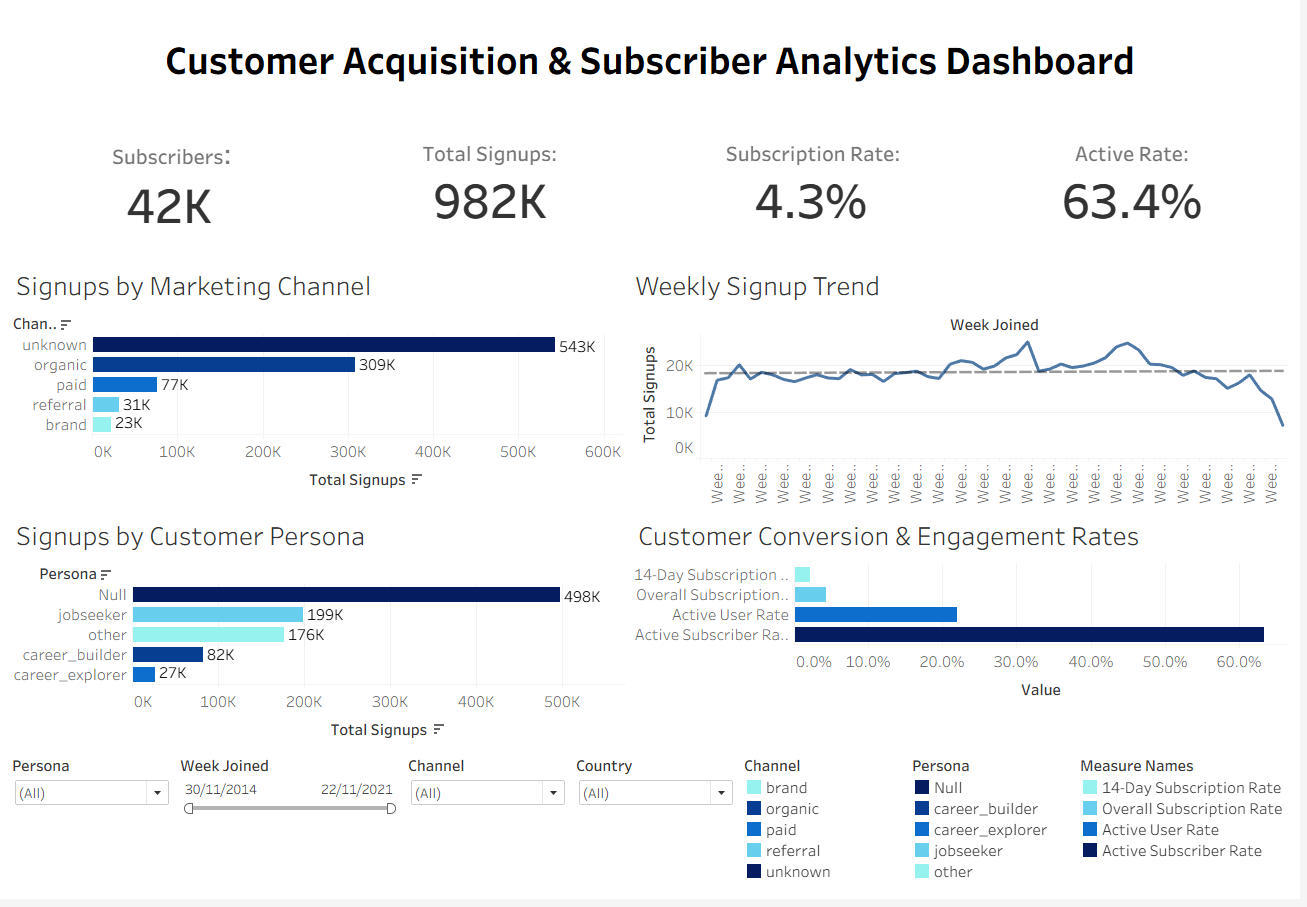

The page's visual inventory and layout, read from the dashboard file:
{"tool":"tableau","page":{"name":"Customer Acquisition & Conversion Dashboard","canvas":[1300,900],"ordinal":0},"visuals":[{"type":"title","box":[8,8,1284,104]},{"type":"worksheet","title":"KPI - Total Subscribers","mark":"Automatic","box":[8,112,321,149]},{"type":"worksheet","title":"KPI - Total Signups","mark":"Automatic","box":[329,112,321,149]},{"type":"worksheet","title":"KPI - Overall Subscription Rate","mark":"Automatic","box":[650,112,321,149]},{"type":"worksheet","title":"KPI - Active Subscriber Rate","mark":"Automatic","box":[971,112,321,149]},{"type":"worksheet","title":"Signups by Marketing Channel","mark":"Automatic","rows":["channel"],"cols":["total_signups"],"box":[8,261,619,250]},{"type":"worksheet","title":"Weekly Signup Trend","mark":"Automatic","rows":["total_signups"],"cols":["week_joined"],"box":[627,261,665,250]},{"type":"worksheet","title":"Signups by Customer Persona","mark":"Automatic","rows":["persona"],"cols":["total_signups"],"box":[8,511,622,241]},{"type":"worksheet","title":"Customer Conversion & Engagement Rates","mark":"Automatic","box":[630,511,662,241]},{"type":"filter","title":"Signups by Marketing Channel","param":"[federated.0hsg56x1mo020c1gxsg420qv870l].[none:persona:nk]","box":[8,752,168,140]},{"type":"filter","title":"Signups by Marketing Channel","param":"[federated.0hsg56x1mo020c1gxsg420qv870l].[none:week_joined:qk]","box":[176,752,228,140]},{"type":"filter","title":"Signups by Marketing Channel","param":"[federated.0hsg56x1mo020c1gxsg420qv870l].[none:channel:nk]","box":[404,752,168,140]},{"type":"filter","title":"Weekly Signup Trend","param":"[federated.0hsg56x1mo020c1gxsg420qv870l].[none:country:nk]","box":[572,752,168,140]},{"type":"legend","title":"Signups by Marketing Channel","param":"[federated.0hsg56x1mo020c1gxsg420qv870l].[none:channel:nk]","box":[740,752,168,140]},{"type":"legend","title":"Signups by Customer Persona","param":"[federated.0hsg56x1mo020c1gxsg420qv870l].[none:persona:nk]","box":[908,752,168,140]},{"type":"legend","title":"Customer Conversion & Engagement Rates","param":"[federated.0hsg56x1mo020c1gxsg420qv870l].[:Measure Names]","box":[1076,752,216,140]}]}

Visuals, with their boxes in screenshot pixels (x1, y1, x2, y2), scaled from the page's 1300x900 canvas onto the 1307x907 screenshot:
title: bbox=[8, 8, 1299, 113]
"KPI - Total Subscribers" worksheet: bbox=[8, 113, 331, 263]
"KPI - Total Signups" worksheet: bbox=[331, 113, 654, 263]
"KPI - Overall Subscription Rate" worksheet: bbox=[654, 113, 976, 263]
"KPI - Active Subscriber Rate" worksheet: bbox=[976, 113, 1299, 263]
"Signups by Marketing Channel" worksheet: bbox=[8, 263, 630, 515]
"Weekly Signup Trend" worksheet: bbox=[630, 263, 1299, 515]
"Signups by Customer Persona" worksheet: bbox=[8, 515, 633, 758]
"Customer Conversion & Engagement Rates" worksheet: bbox=[633, 515, 1299, 758]
"Signups by Marketing Channel" filter: bbox=[8, 758, 177, 899]
"Signups by Marketing Channel" filter: bbox=[177, 758, 406, 899]
"Signups by Marketing Channel" filter: bbox=[406, 758, 575, 899]
"Weekly Signup Trend" filter: bbox=[575, 758, 744, 899]
"Signups by Marketing Channel" legend: bbox=[744, 758, 913, 899]
"Signups by Customer Persona" legend: bbox=[913, 758, 1082, 899]
"Customer Conversion & Engagement Rates" legend: bbox=[1082, 758, 1299, 899]
